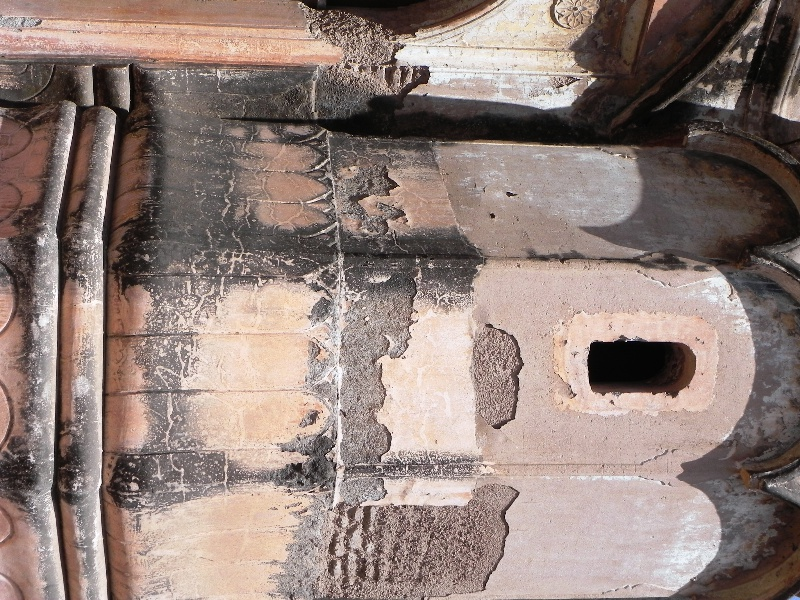Exposed Bricks: (326, 505, 395, 587), (351, 63, 431, 89)
Spalling: (338, 263, 417, 501), (471, 324, 525, 432), (312, 5, 408, 63)
